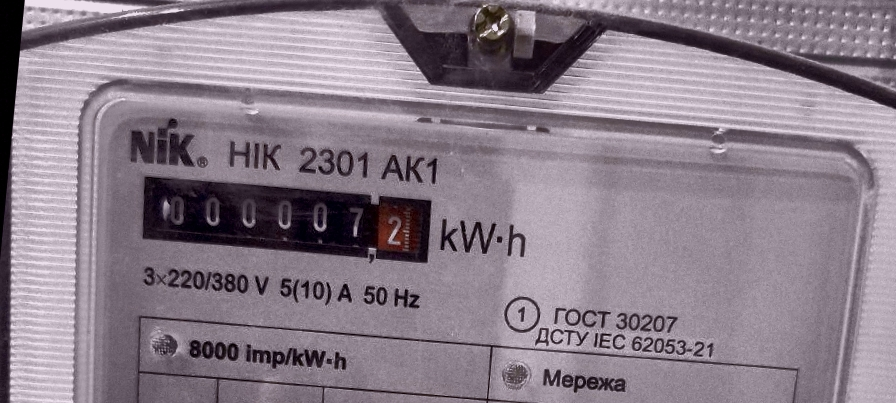0: (235, 193, 261, 233), (164, 191, 189, 228), (273, 196, 296, 235), (307, 198, 331, 235), (201, 193, 224, 229)
2: (382, 212, 406, 250)
7: (342, 202, 367, 242)
screen: (132, 165, 442, 274)
